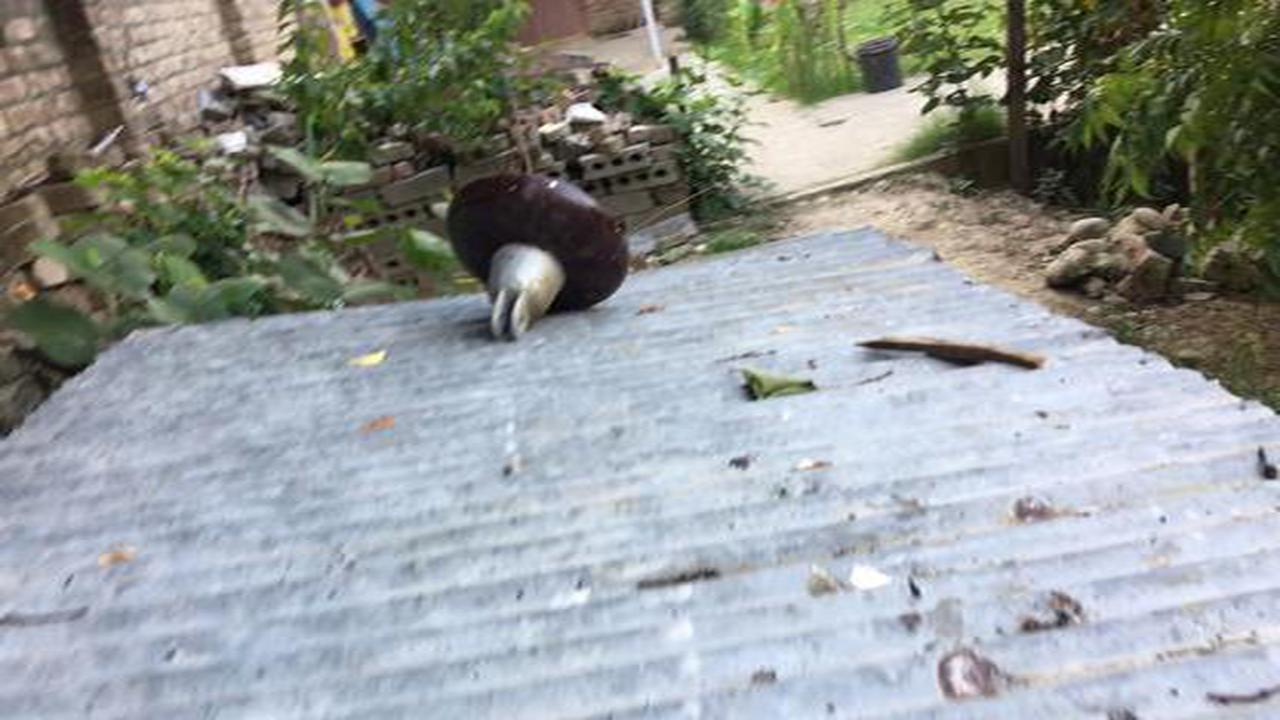insulator_disc: (444, 172, 632, 349)
